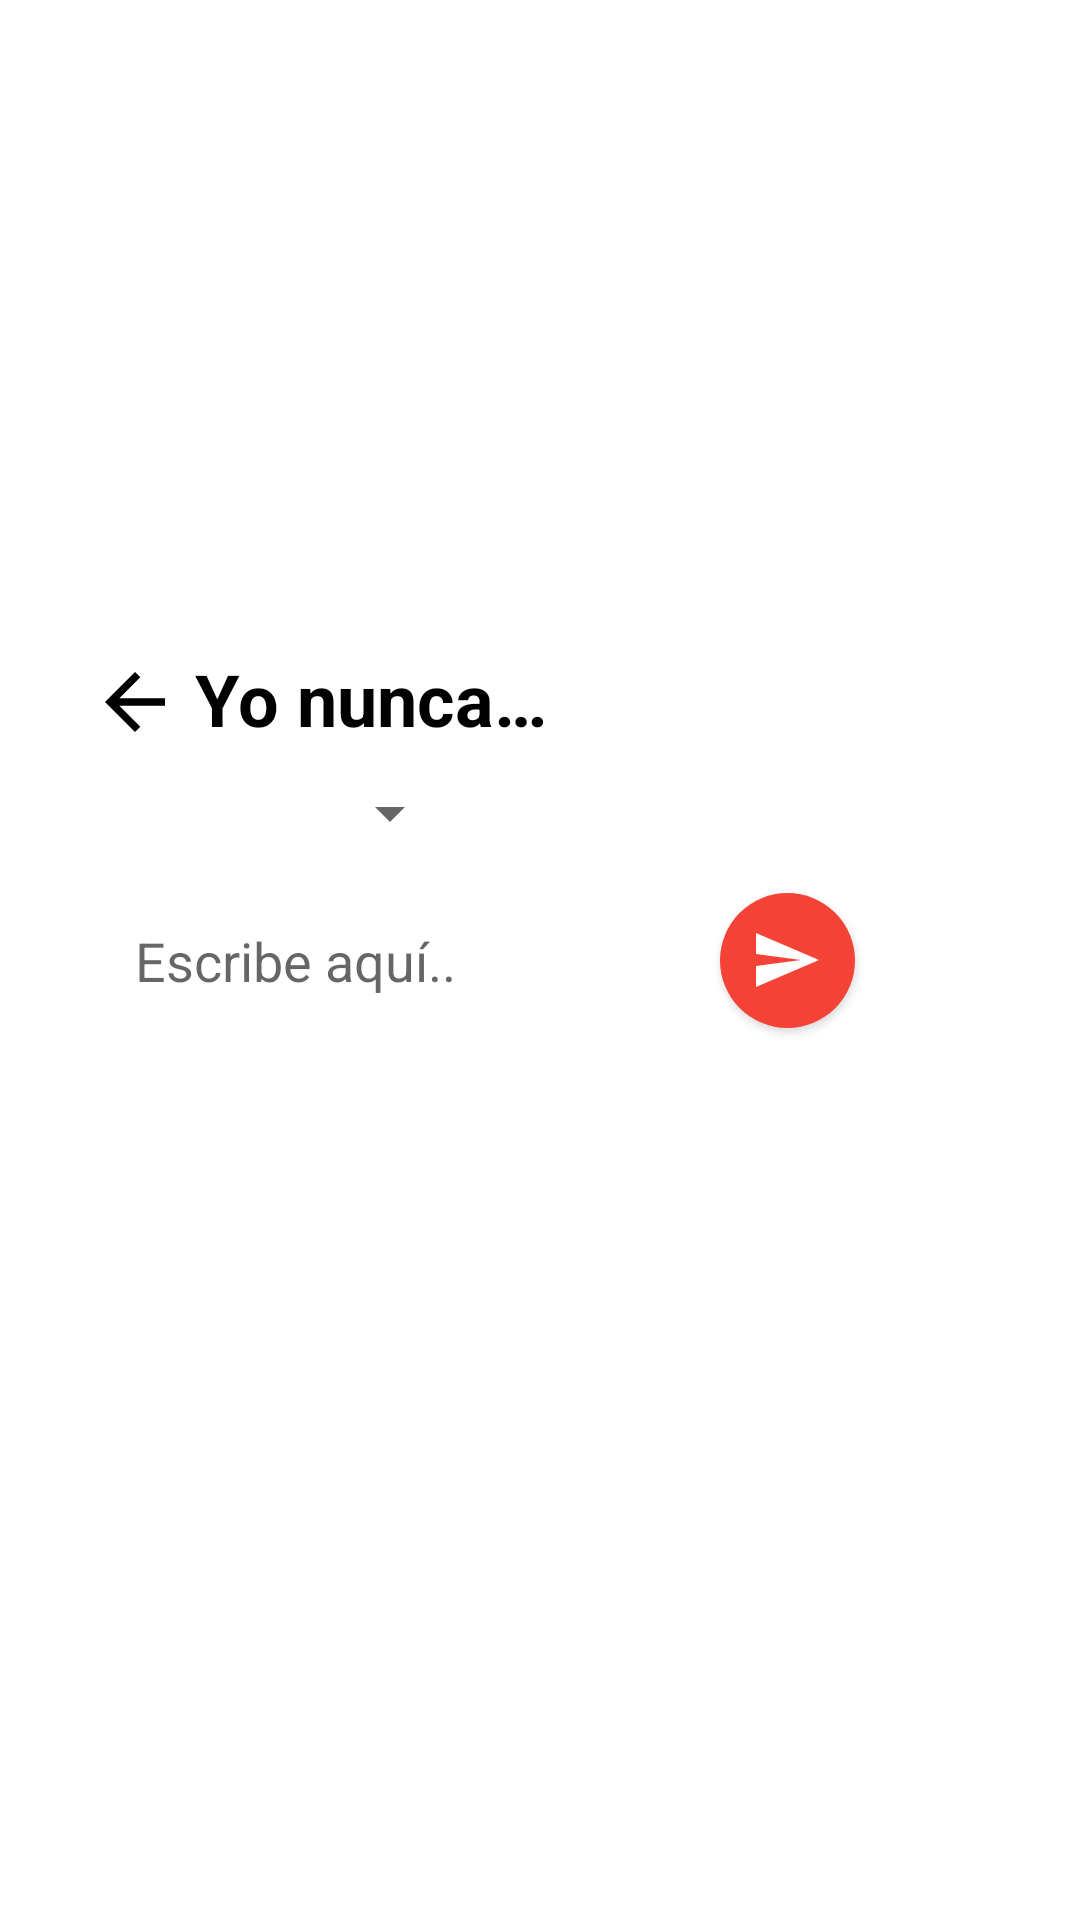

Locate icon controls on the screen. Image size 1080px×1920px, boxes as (x1, y1, x2, y2).
back: (105, 672, 165, 732)
